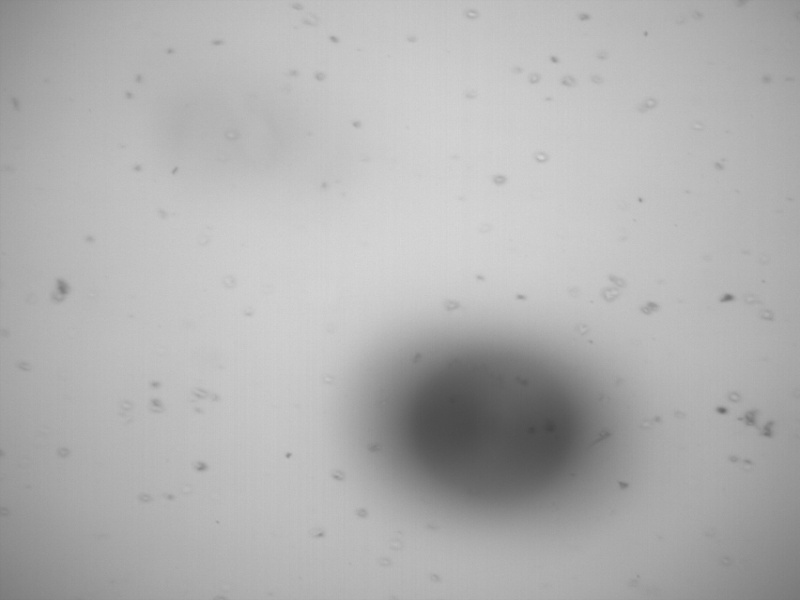bead: (408, 341, 585, 499)
